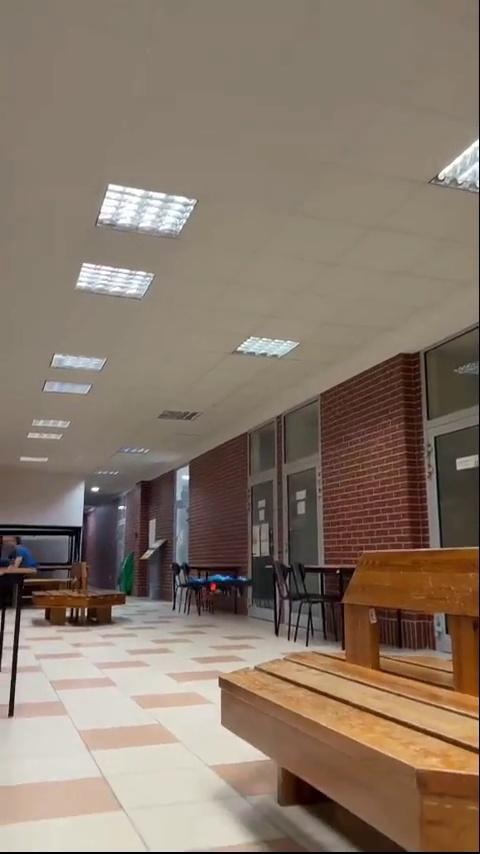drone: (186, 571, 249, 593)
no vest: (2, 535, 38, 595)
